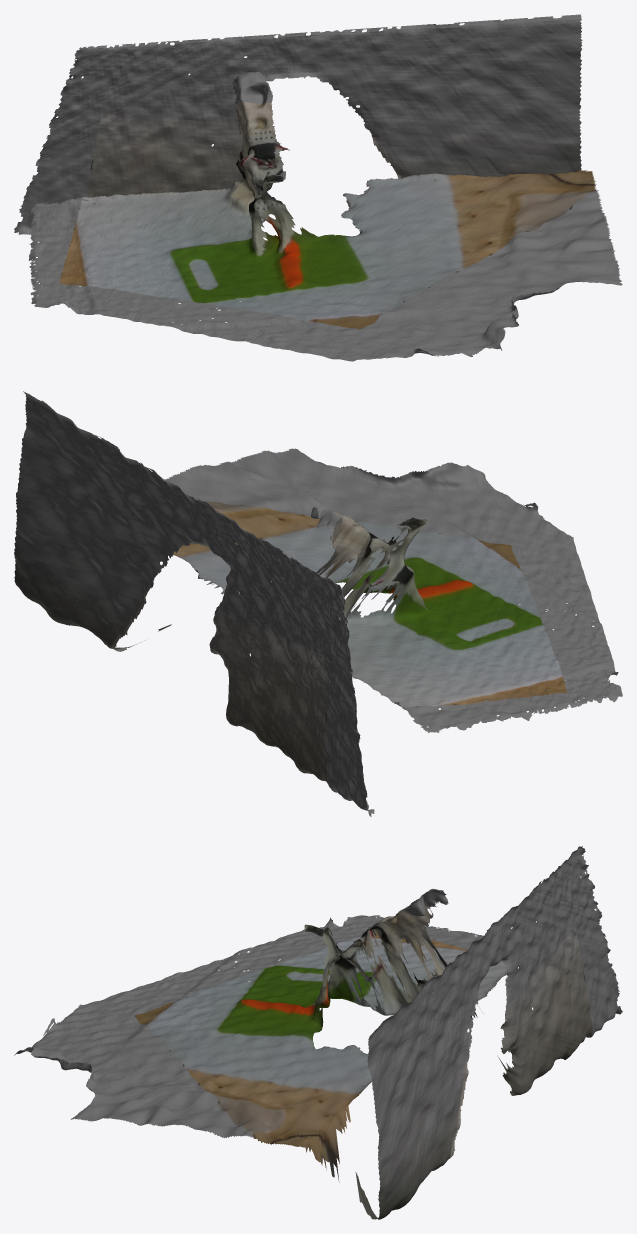
File: scan-cleaned.glb
The picture shows the model from 3 angles, top to bottom: view 1: azimuth 30°, elevation 25°; view 2: azimuth 150°, elevation 25°; view 3: azimuth 270°, elevation 25°; orthographic projection. The views are drawn at different scales.
Visible parts, largest first — view 1: scan; view 2: scan; view 3: scan.
Part boxes in pixels (box(x1,y1,x2,y2)): scan: box(14, 14, 622, 361); scan: box(14, 391, 622, 816); scan: box(14, 846, 622, 1219).
Bounding box in the file's own units: 1.05 × 0.3607 × 0.9782.
